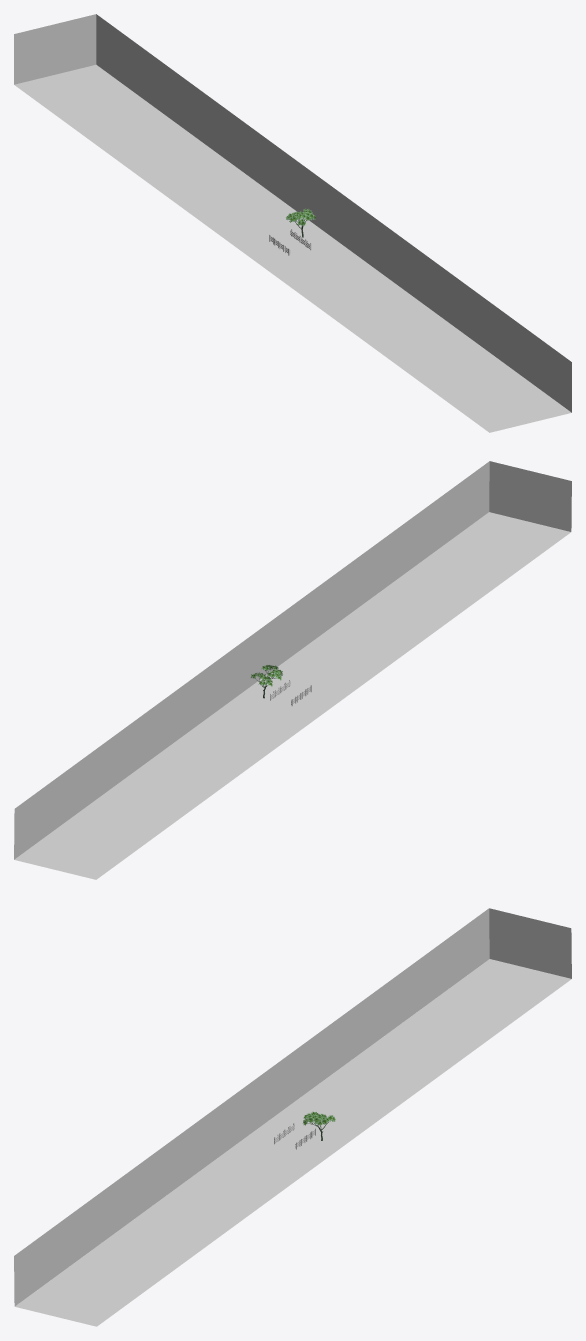
Rendered from World.glb.
3 renders of one model, top to bottom at view 1: azimuth 30°, elevation 25°; view 2: azimuth 150°, elevation 25°; view 3: azimuth 330°, elevation 25°, orthographic.
Parts seen in each view (by area): view 1: Floor, Walls; view 2: Floor, Walls; view 3: Floor, Walls.
Part boxes in pixels (x1,y1,x2,y2): Floor: [14, 64, 571, 432]; Walls: [14, 14, 571, 412]; Floor: [14, 512, 570, 879]; Walls: [14, 461, 571, 859]; Floor: [15, 959, 571, 1326]; Walls: [14, 908, 571, 1306].
Bounding box in the file's own units: 20.06 × 11.81 × 200.
Materials: 2 (2 with a texture image).
